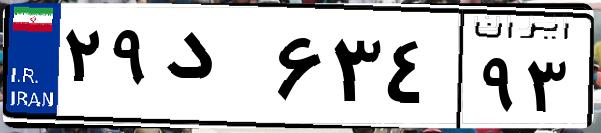2: (57, 26, 110, 100)
3: (330, 28, 385, 110), (525, 38, 570, 115)
4: (385, 28, 445, 110)
6: (270, 28, 330, 110)
9: (475, 38, 525, 113), (110, 28, 158, 98)
د: (158, 20, 270, 120)
